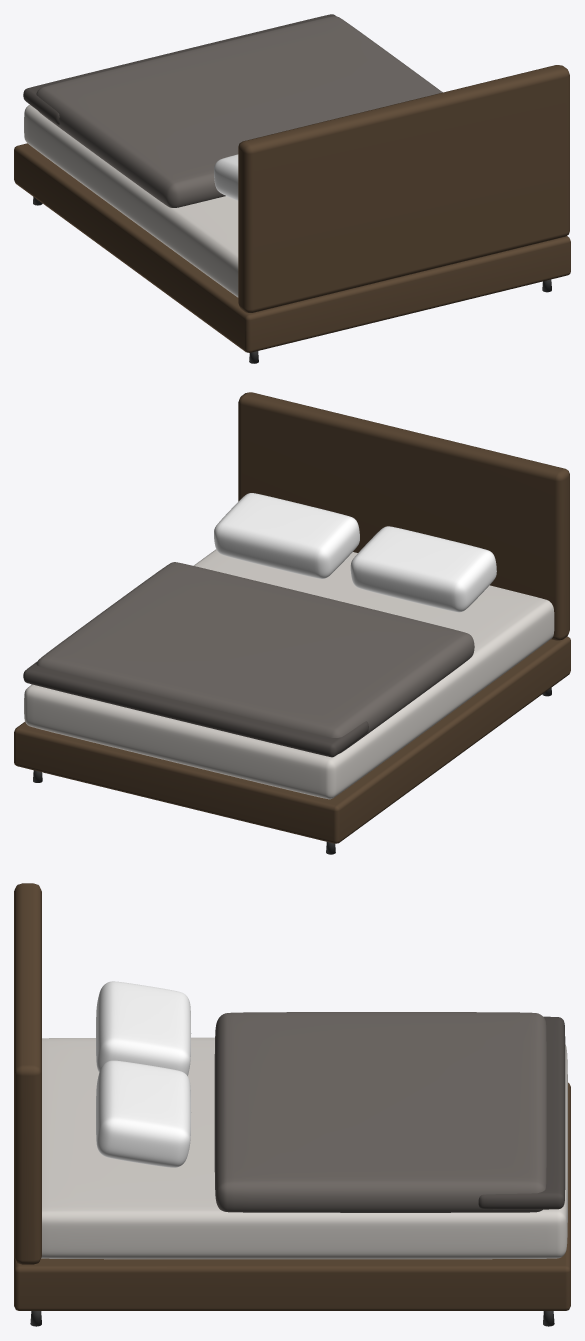
Rendered from bed.glb.
3 views of the same model, one above another, from view 1: azimuth 30°, elevation 25°; view 2: azimuth 150°, elevation 25°; view 3: azimuth 270°, elevation 25° (orthographic). The views are drawn at different scales.
Visible parts, largest first — view 1: leg; view 2: leg; view 3: leg.
Boxes of the visible parts, bbox=[...] form: leg: bbox=[14, 14, 570, 363]; leg: bbox=[14, 392, 570, 854]; leg: bbox=[14, 883, 570, 1326].
Size of the model in its own units: 1.6 by 1.05 by 2.
